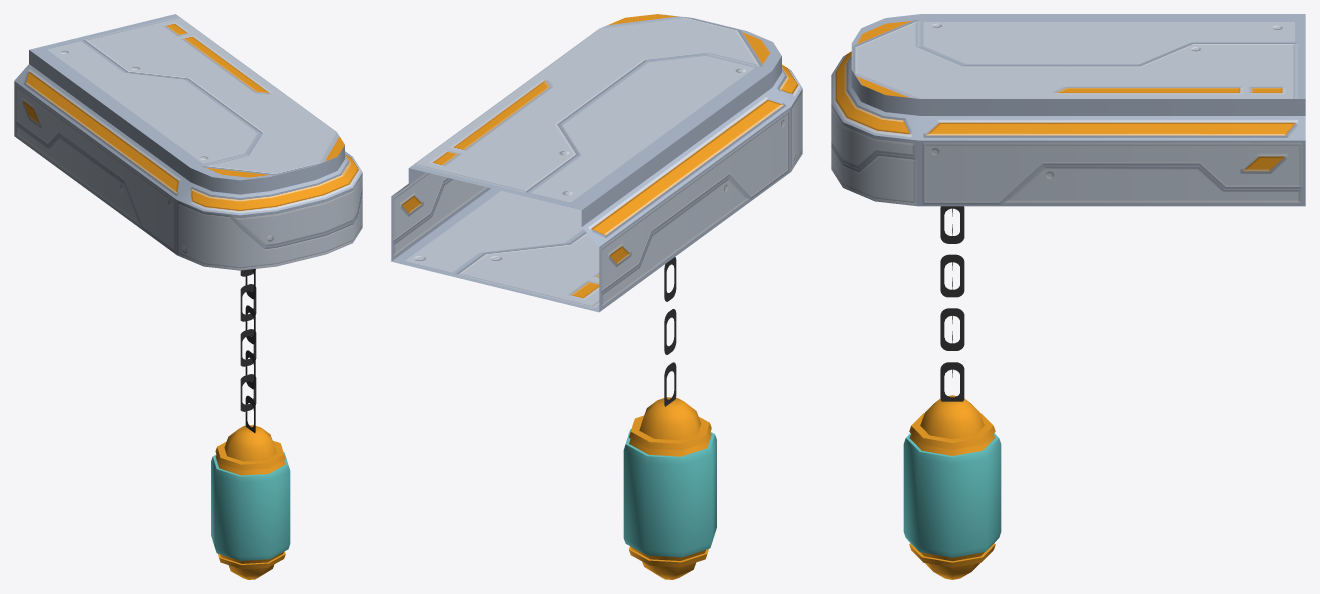
File: Lantern.dae
3 renders of one model, left to right at view 1: azimuth 30°, elevation 25°; view 2: azimuth 150°, elevation 25°; view 3: azimuth 270°, elevation 25°, orthographic. The views are drawn at different scales.
Visible parts, largest first — view 1: Cube, Cylinder, Plane.001, Plane; view 2: Cube, Cylinder, Plane; view 3: Cube, Cylinder, Plane.
Boxes of the visible parts, x1,y1,x2,y2 form: Cube: [14, 14, 362, 270]; Cylinder: [211, 425, 290, 579]; Plane.001: [240, 269, 256, 411]; Plane: [245, 269, 255, 432]; Cube: [391, 14, 802, 312]; Cylinder: [623, 397, 716, 579]; Plane: [664, 257, 676, 406]; Cube: [831, 14, 1305, 206]; Cylinder: [903, 395, 1001, 579]; Plane: [940, 206, 964, 401].
Size of the model in its own units: 0.5093 by 0.9973 by 1.2.
